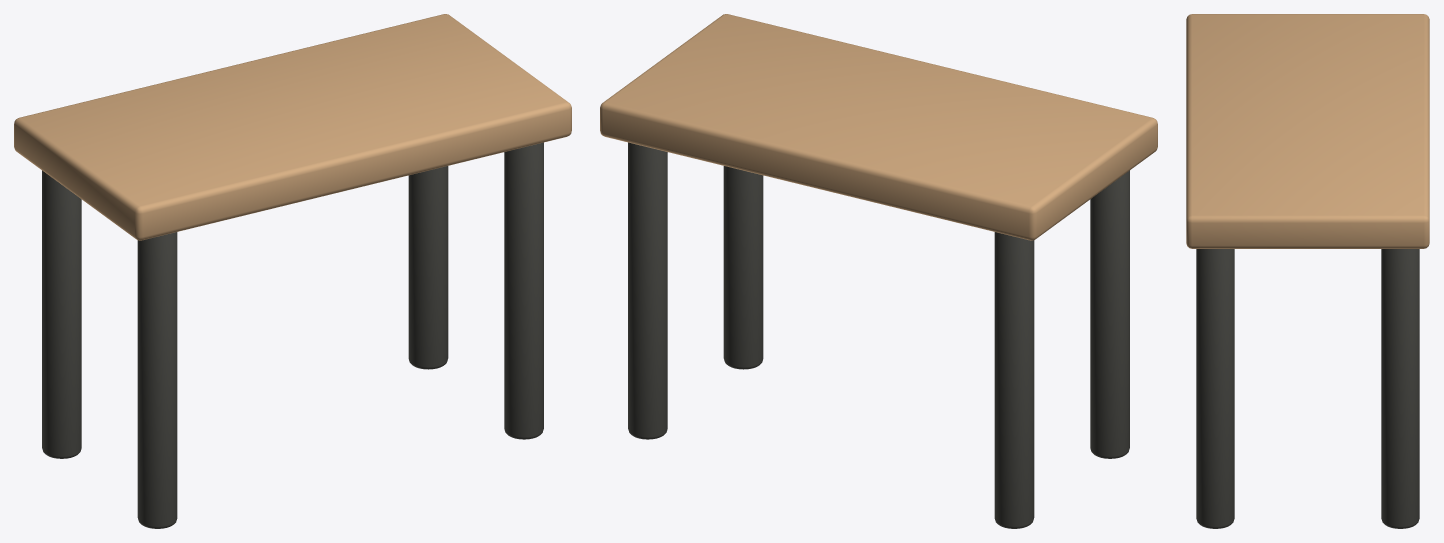
Rendered from desk-standing.glb.
3 renders of one model, left to right at view 1: azimuth 30°, elevation 25°; view 2: azimuth 150°, elevation 25°; view 3: azimuth 270°, elevation 25°, orthographic. The views are drawn at different scales.
Parts seen in each view (by area): view 1: top.002, leg-1.002, leg-3.002, leg-2.002, leg-4.002; view 2: top.002, leg-2.002, leg-4.002, leg-1.002, leg-3.002; view 3: top.002, leg-3.002, leg-4.002.
Part boxes in pixels (x1,y1,x2,y2): top.002: [14, 14, 571, 240]; leg-1.002: [137, 232, 177, 528]; leg-3.002: [504, 142, 543, 439]; leg-2.002: [42, 170, 81, 458]; leg-4.002: [408, 166, 448, 369]; top.002: [600, 14, 1157, 240]; leg-2.002: [994, 232, 1034, 528]; leg-4.002: [628, 142, 667, 439]; leg-1.002: [1090, 170, 1129, 458]; leg-3.002: [723, 166, 763, 369]; top.002: [1186, 14, 1429, 248]; leg-3.002: [1196, 249, 1234, 528]; leg-4.002: [1381, 249, 1419, 528].
Size of the model in its own units: 1.4 by 1.02 by 0.7.
